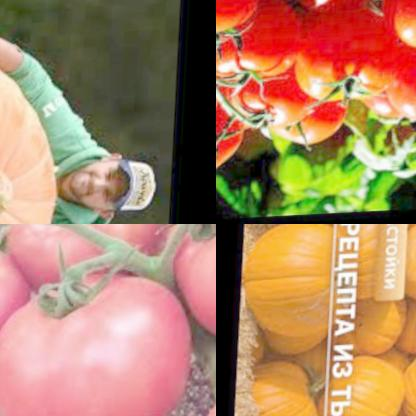pumpkin: (0, 35, 78, 224), (241, 224, 350, 340), (326, 224, 412, 309), (336, 288, 416, 365), (237, 356, 332, 416), (329, 352, 412, 416), (390, 293, 416, 362)
tomato: (0, 259, 199, 416), (288, 4, 403, 121), (3, 224, 183, 292), (216, 0, 304, 93), (224, 57, 321, 137), (163, 224, 216, 347), (0, 224, 32, 392), (276, 86, 352, 155), (368, 45, 416, 128), (216, 102, 253, 184), (295, 0, 393, 18)
